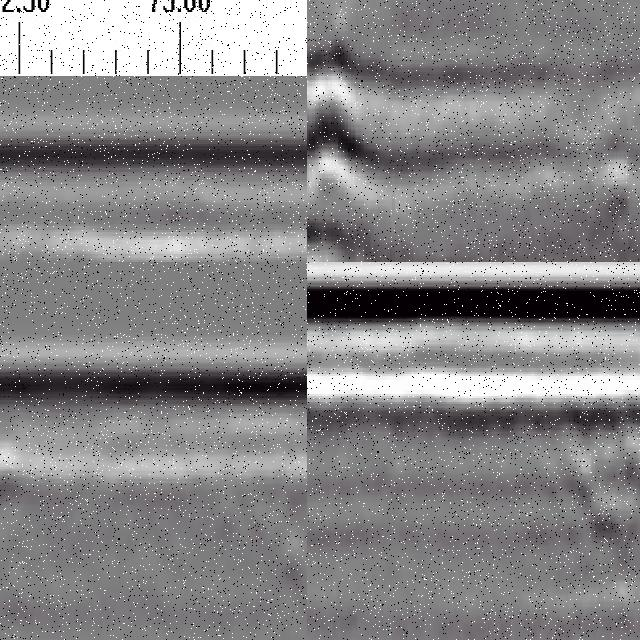loose: (308, 33, 397, 263), (572, 401, 640, 570)
